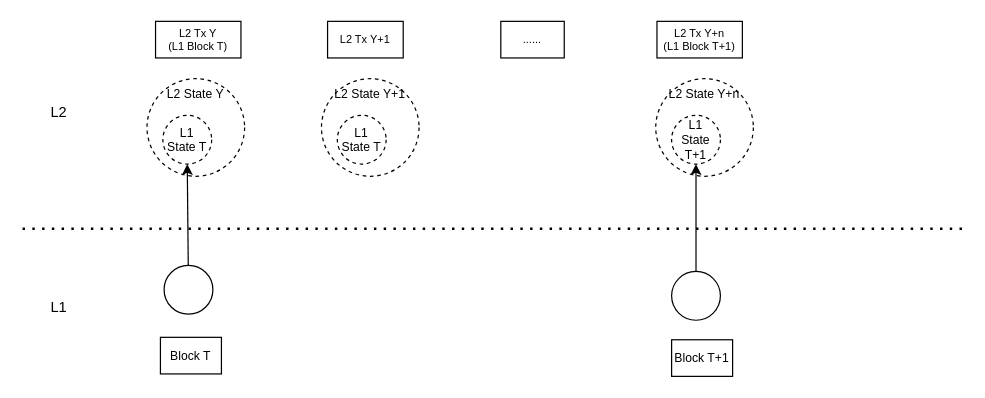
The diagram is 985 pixels wide and 398 high, and some of its shapes have lost their labels. Here are the shapes that lost their labels. From the top down, the centre of each, then its label:
the point at 188,289: State T
the point at 695,295: State T+1
